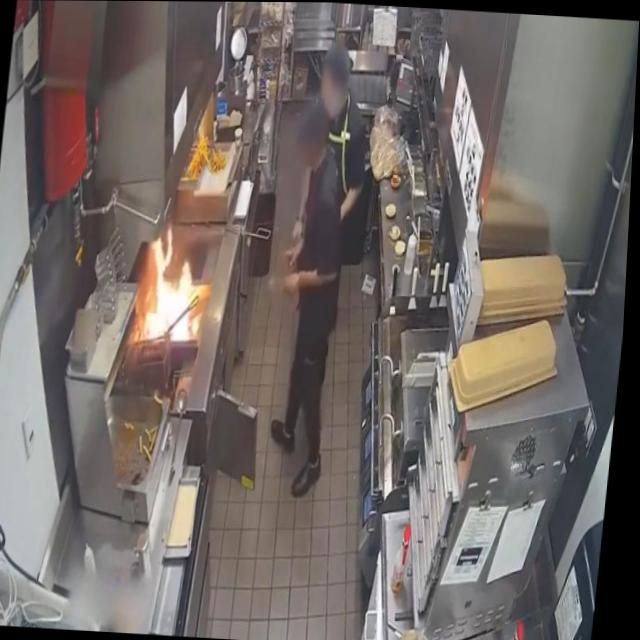fire: (138, 222, 209, 345)
